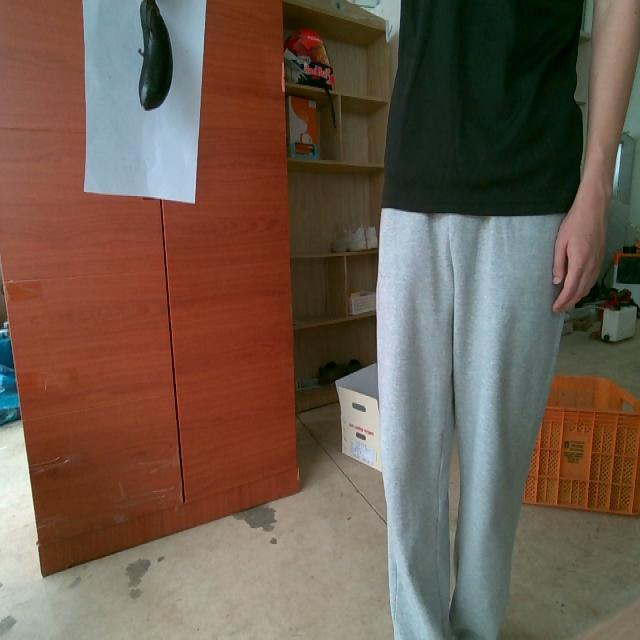Egg plant: (138, 0, 172, 109)
